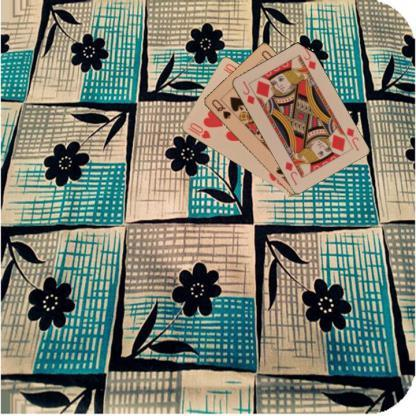10h: (186, 120, 212, 140)
Jd: (343, 125, 360, 152), (240, 78, 256, 106)
Qs: (209, 96, 232, 121)
